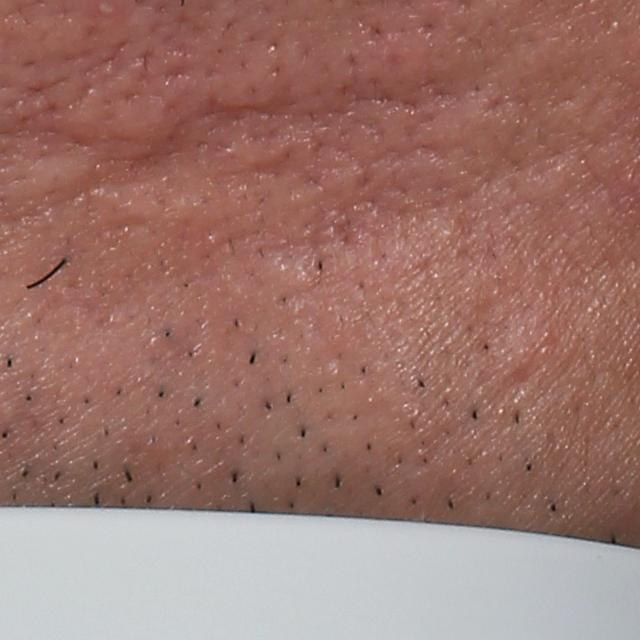hypertrophic_scar: (56, 93, 176, 157), (208, 77, 281, 113)
